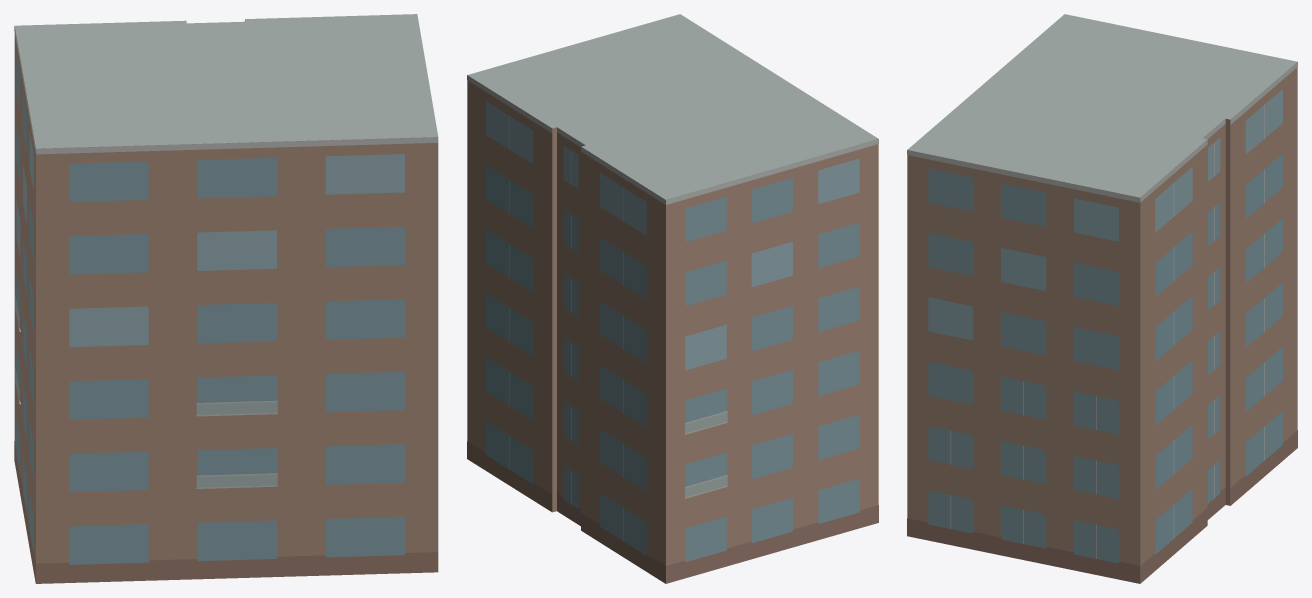
Rendered from survey-upis-32887841.glb.
The picture shows the model from 3 angles, left to right: view 1: azimuth 30°, elevation 25°; view 2: azimuth 150°, elevation 25°; view 3: azimuth 270°, elevation 25°; orthographic projection. The views are drawn at different scales.
Visible parts, largest first — view 1: survey-upis-32887841.tmp; view 2: survey-upis-32887841.tmp; view 3: survey-upis-32887841.tmp.
Boxes of the visible parts, x1,y1,x2,y2 form: survey-upis-32887841.tmp: (14, 14, 438, 583); survey-upis-32887841.tmp: (467, 14, 878, 583); survey-upis-32887841.tmp: (907, 14, 1297, 583).
Size of the model in its own units: 18.67 by 18.3 by 16.78.
